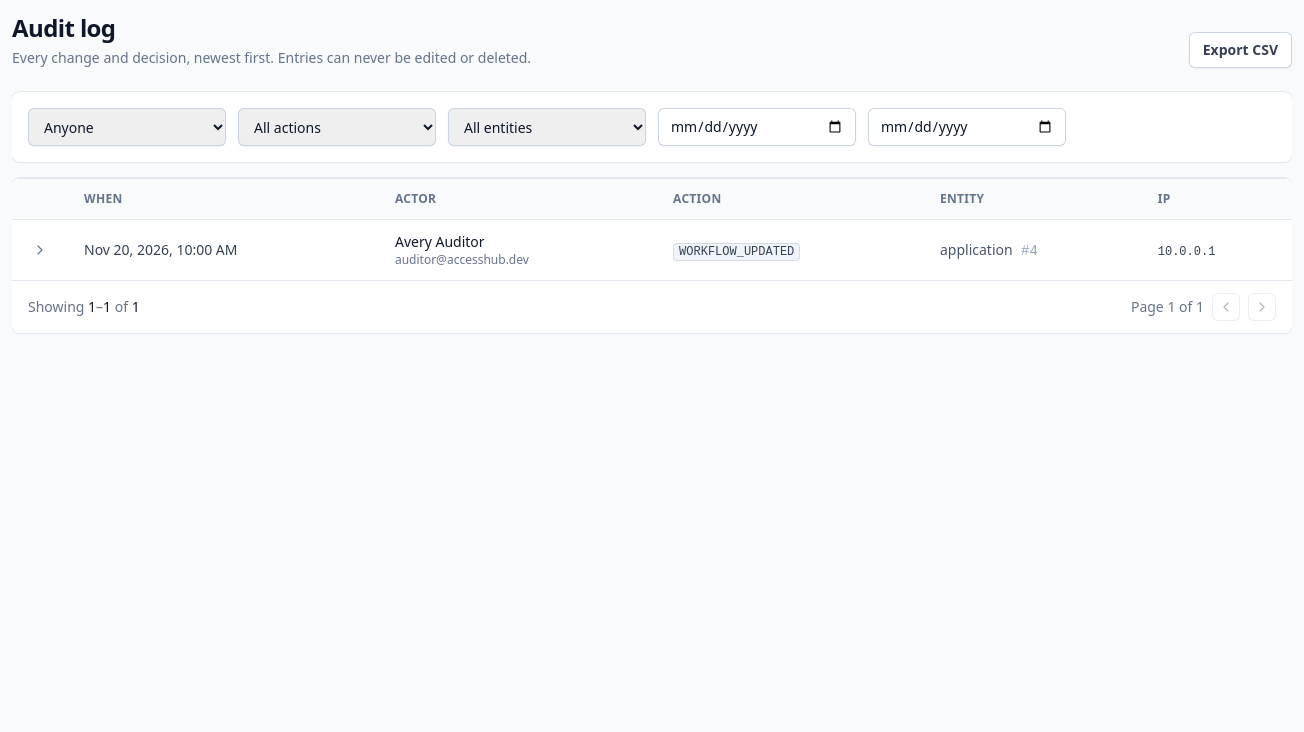
Audit log export › downloads the CSV for the current filters
Select "WORKFLOW_UPDATED" in the dropdown named "Action" at (337, 127), box [238,108,436,146]
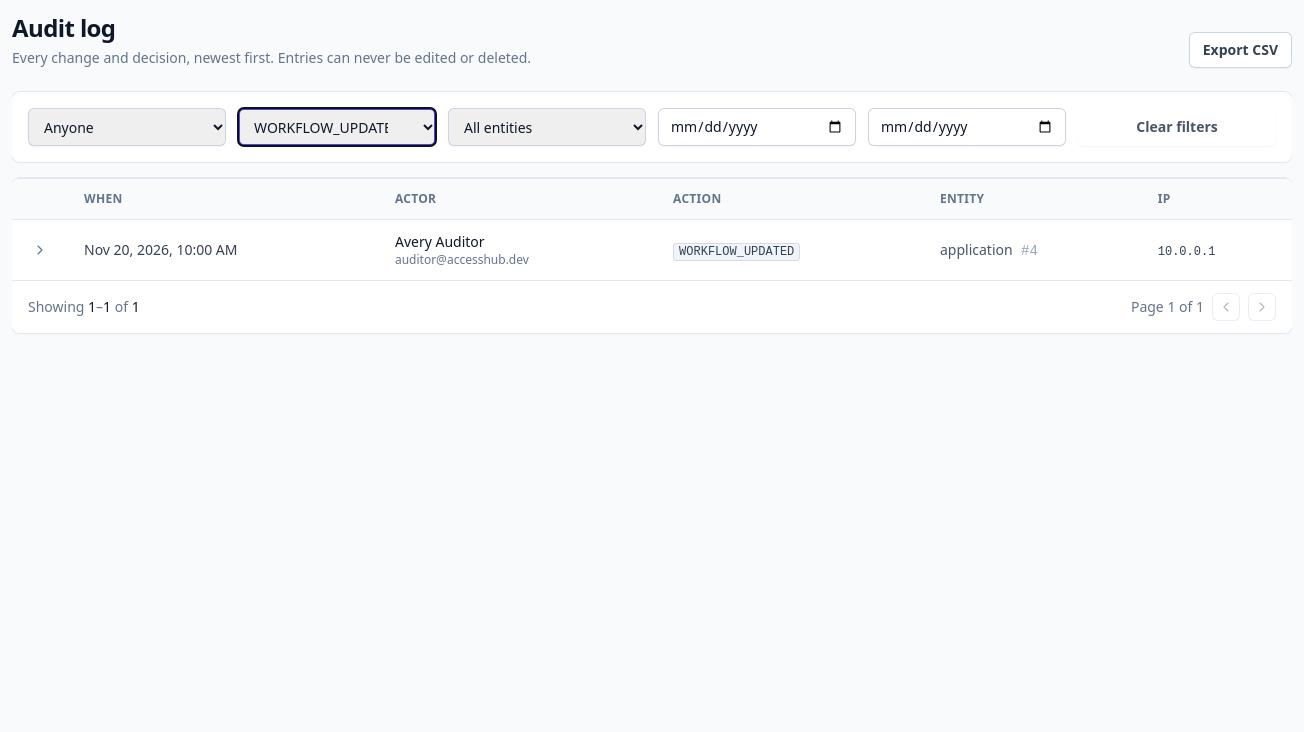
Click the button "Export CSV" at (1240, 50), box [1189,32,1292,68]
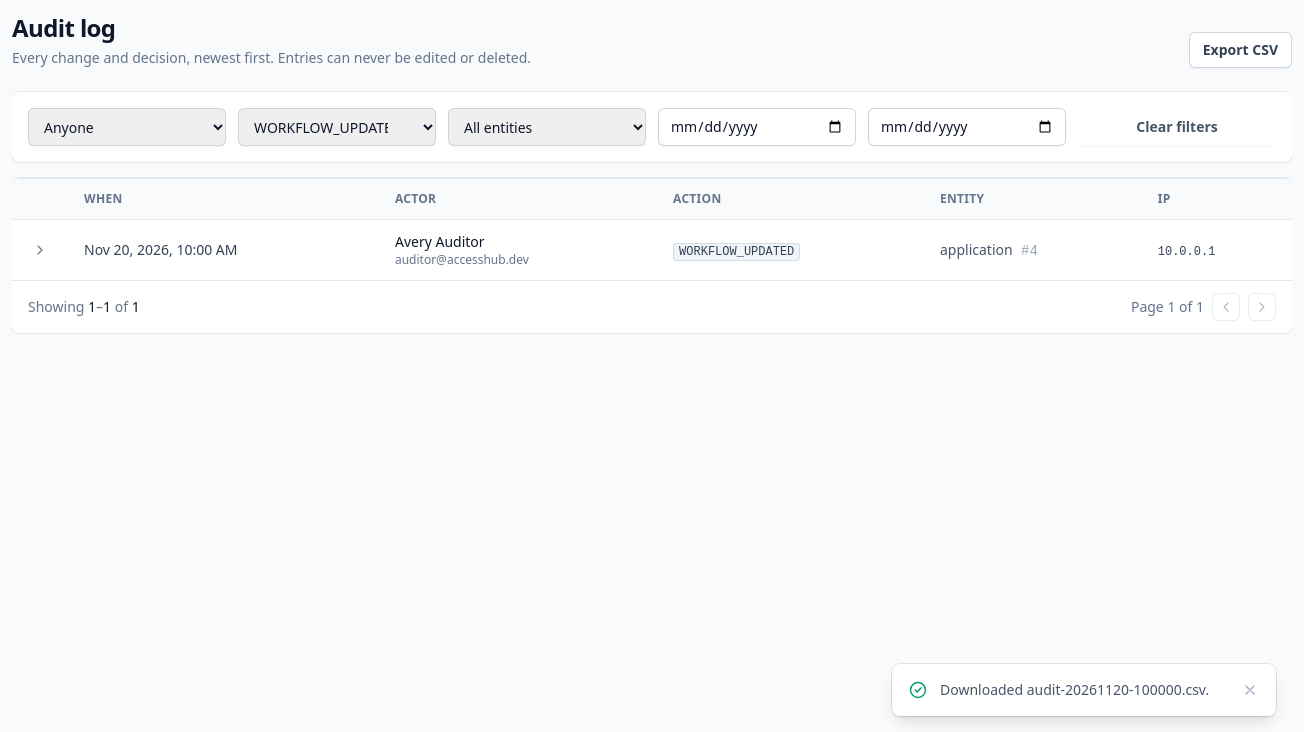
Now the text "Downloaded audit-20261120-100000.csv." is shown, box [940,680,1228,700]
